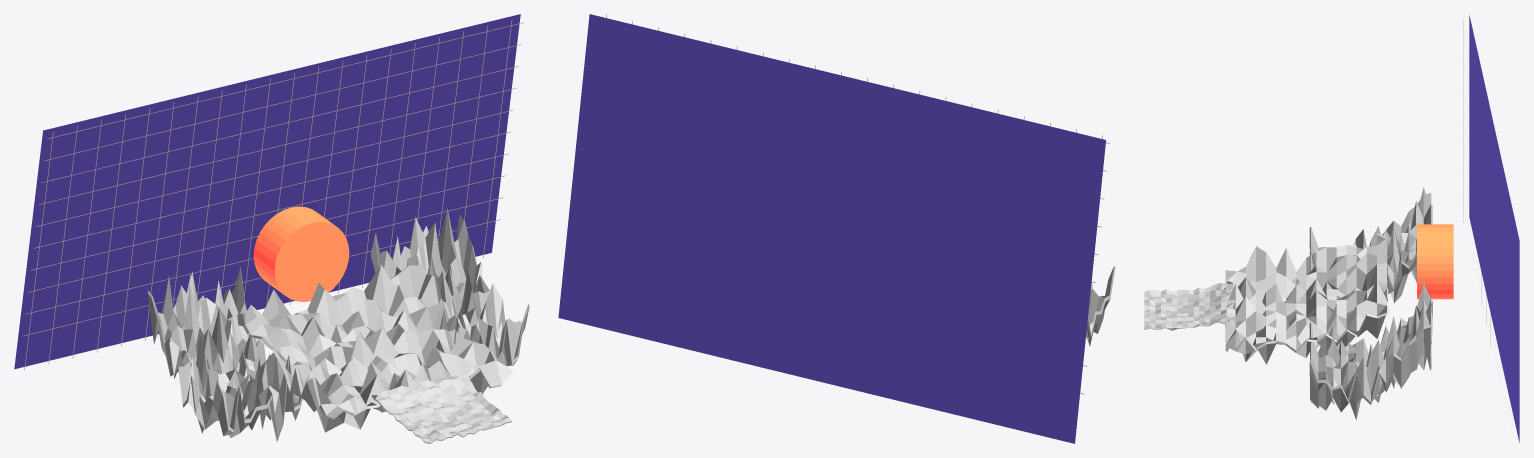
File: Homepage.fbx
3 renders of one model, left to right at view 1: azimuth 30°, elevation 25°; view 2: azimuth 150°, elevation 25°; view 3: azimuth 270°, elevation 25°, orthographic. The views are drawn at different scales.
Visible parts, largest first — view 1: Plane.004, Plane.001, Plane.003, Plane.002, Cylinder, Plane, Plane.005, Plane.006; view 2: Plane.004, Plane.003; view 3: Plane.001, Plane.004, Plane.002, Plane, Plane.003, Cylinder.
Boxes of the visible parts, x1,y1,x2,y2 form: Plane.004: [14, 14, 520, 369]; Plane.001: [237, 265, 513, 432]; Plane.003: [147, 266, 302, 441]; Plane.002: [370, 207, 529, 366]; Cylinder: [253, 206, 349, 301]; Plane: [371, 373, 512, 443]; Plane.005: [23, 22, 524, 336]; Plane.006: [24, 20, 512, 370]; Plane.004: [558, 14, 1105, 443]; Plane.003: [1086, 266, 1115, 346]; Plane.001: [1224, 233, 1388, 364]; Plane.004: [1469, 15, 1519, 442]; Plane.002: [1309, 282, 1432, 420]; Plane: [1144, 280, 1235, 330]; Plane.003: [1309, 187, 1432, 303]; Cylinder: [1417, 224, 1453, 299].
Size of the model in its own units: 10973 by 6164 by 8561.
